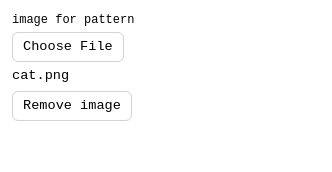
it: ImagePicker › removes the image, clears the name and resets the input
This screenshot has width=332, height=172.
Earlier steps of the test are not shown.
Click the button "Remove image".
click(72, 106)  # box [12,91,132,121]
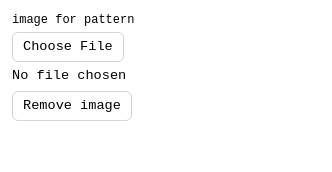
Check: the file field with id "image" is empty, box [12,13,134,27]
Check: the text "No file chosen" is shown, box [12,68,126,83]
